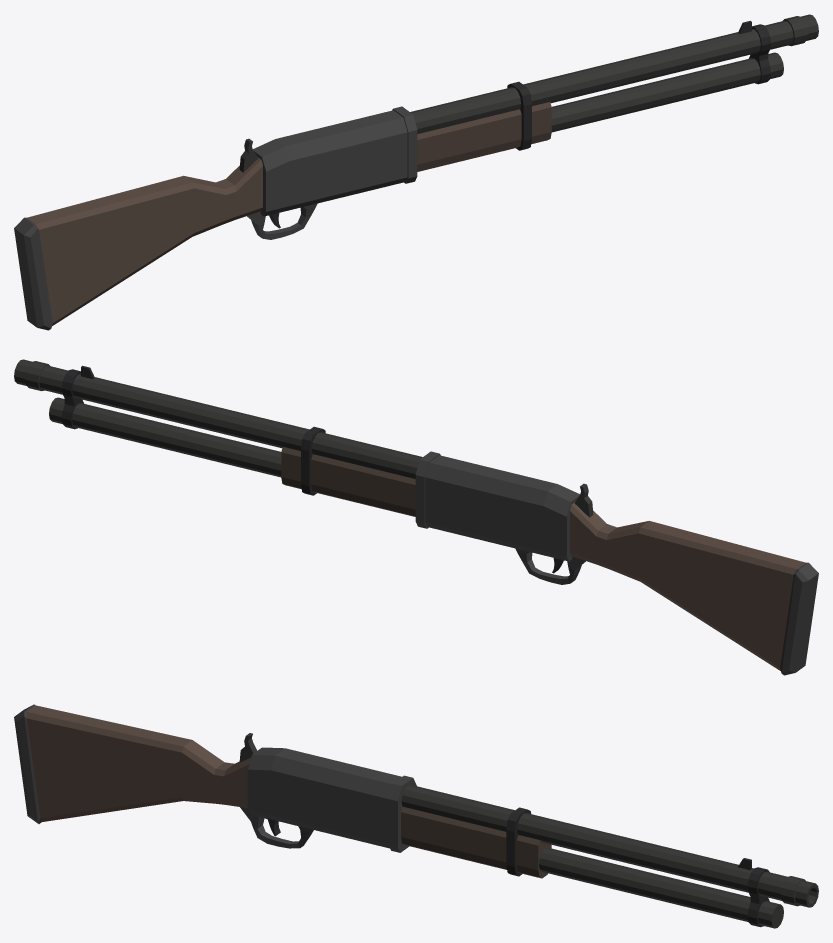
The model's file is shotgun.glb.
The picture shows the model from 3 angles, top to bottom: view 1: azimuth 30°, elevation 25°; view 2: azimuth 150°, elevation 25°; view 3: azimuth 330°, elevation 25°; orthographic projection.
Parts seen in each view (by area): view 1: Shotgun_2; view 2: Shotgun_2; view 3: Shotgun_2.
Part boxes in pixels (bbox=[...]): Shotgun_2: bbox=[14, 14, 818, 330]; Shotgun_2: bbox=[14, 359, 818, 675]; Shotgun_2: bbox=[14, 704, 818, 928].
Bounding box in the file's own units: 5.78 × 0.9491 × 0.2465.
Materials: 1 (1 with a texture image).
